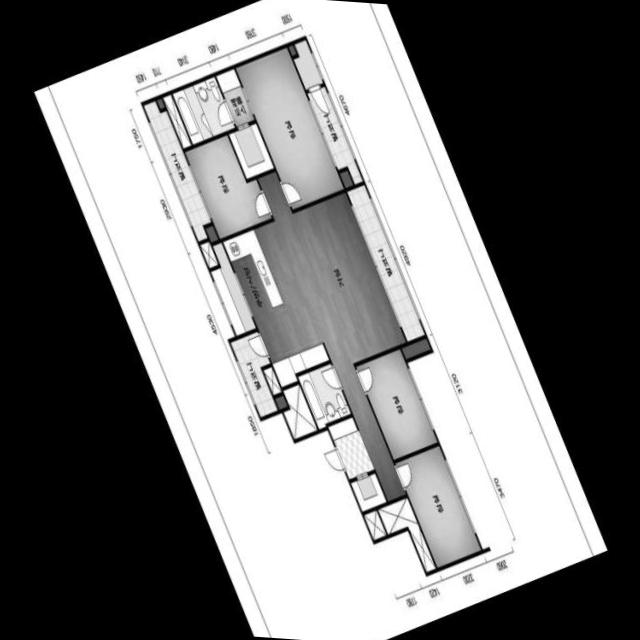background: (33, 0, 607, 640)
space_balconi: (346, 183, 424, 340), (143, 99, 210, 240), (306, 85, 362, 183), (230, 330, 277, 416)
space_bedroom: (235, 46, 343, 208), (394, 444, 480, 566), (355, 347, 437, 458), (184, 134, 271, 237)
space_dressroom: (215, 67, 273, 177)
space_front: (327, 416, 386, 510)
space_kitchen: (222, 220, 328, 386)
space_living_room: (257, 170, 405, 500)
space_other: (377, 496, 435, 571), (210, 241, 255, 334), (282, 383, 317, 438), (162, 93, 191, 147), (293, 38, 322, 88), (363, 508, 386, 539), (401, 337, 430, 358), (262, 365, 281, 394), (199, 240, 217, 267), (339, 169, 352, 187), (205, 224, 217, 241), (274, 394, 287, 408), (156, 97, 164, 107), (288, 44, 296, 54)
space_toilet: (171, 75, 234, 143), (297, 362, 350, 428)
